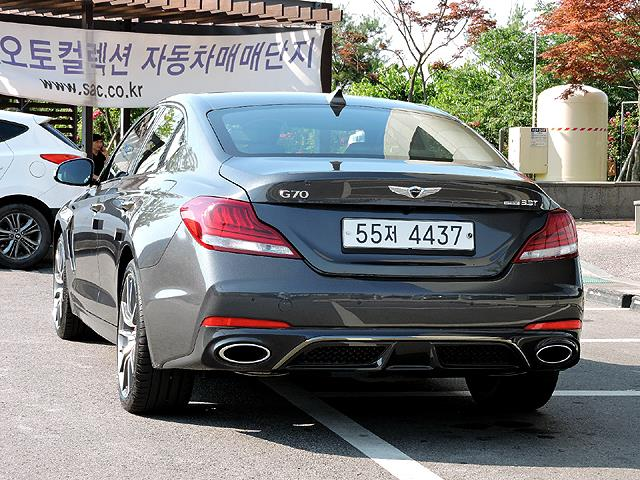plate: (342, 218, 474, 250)
